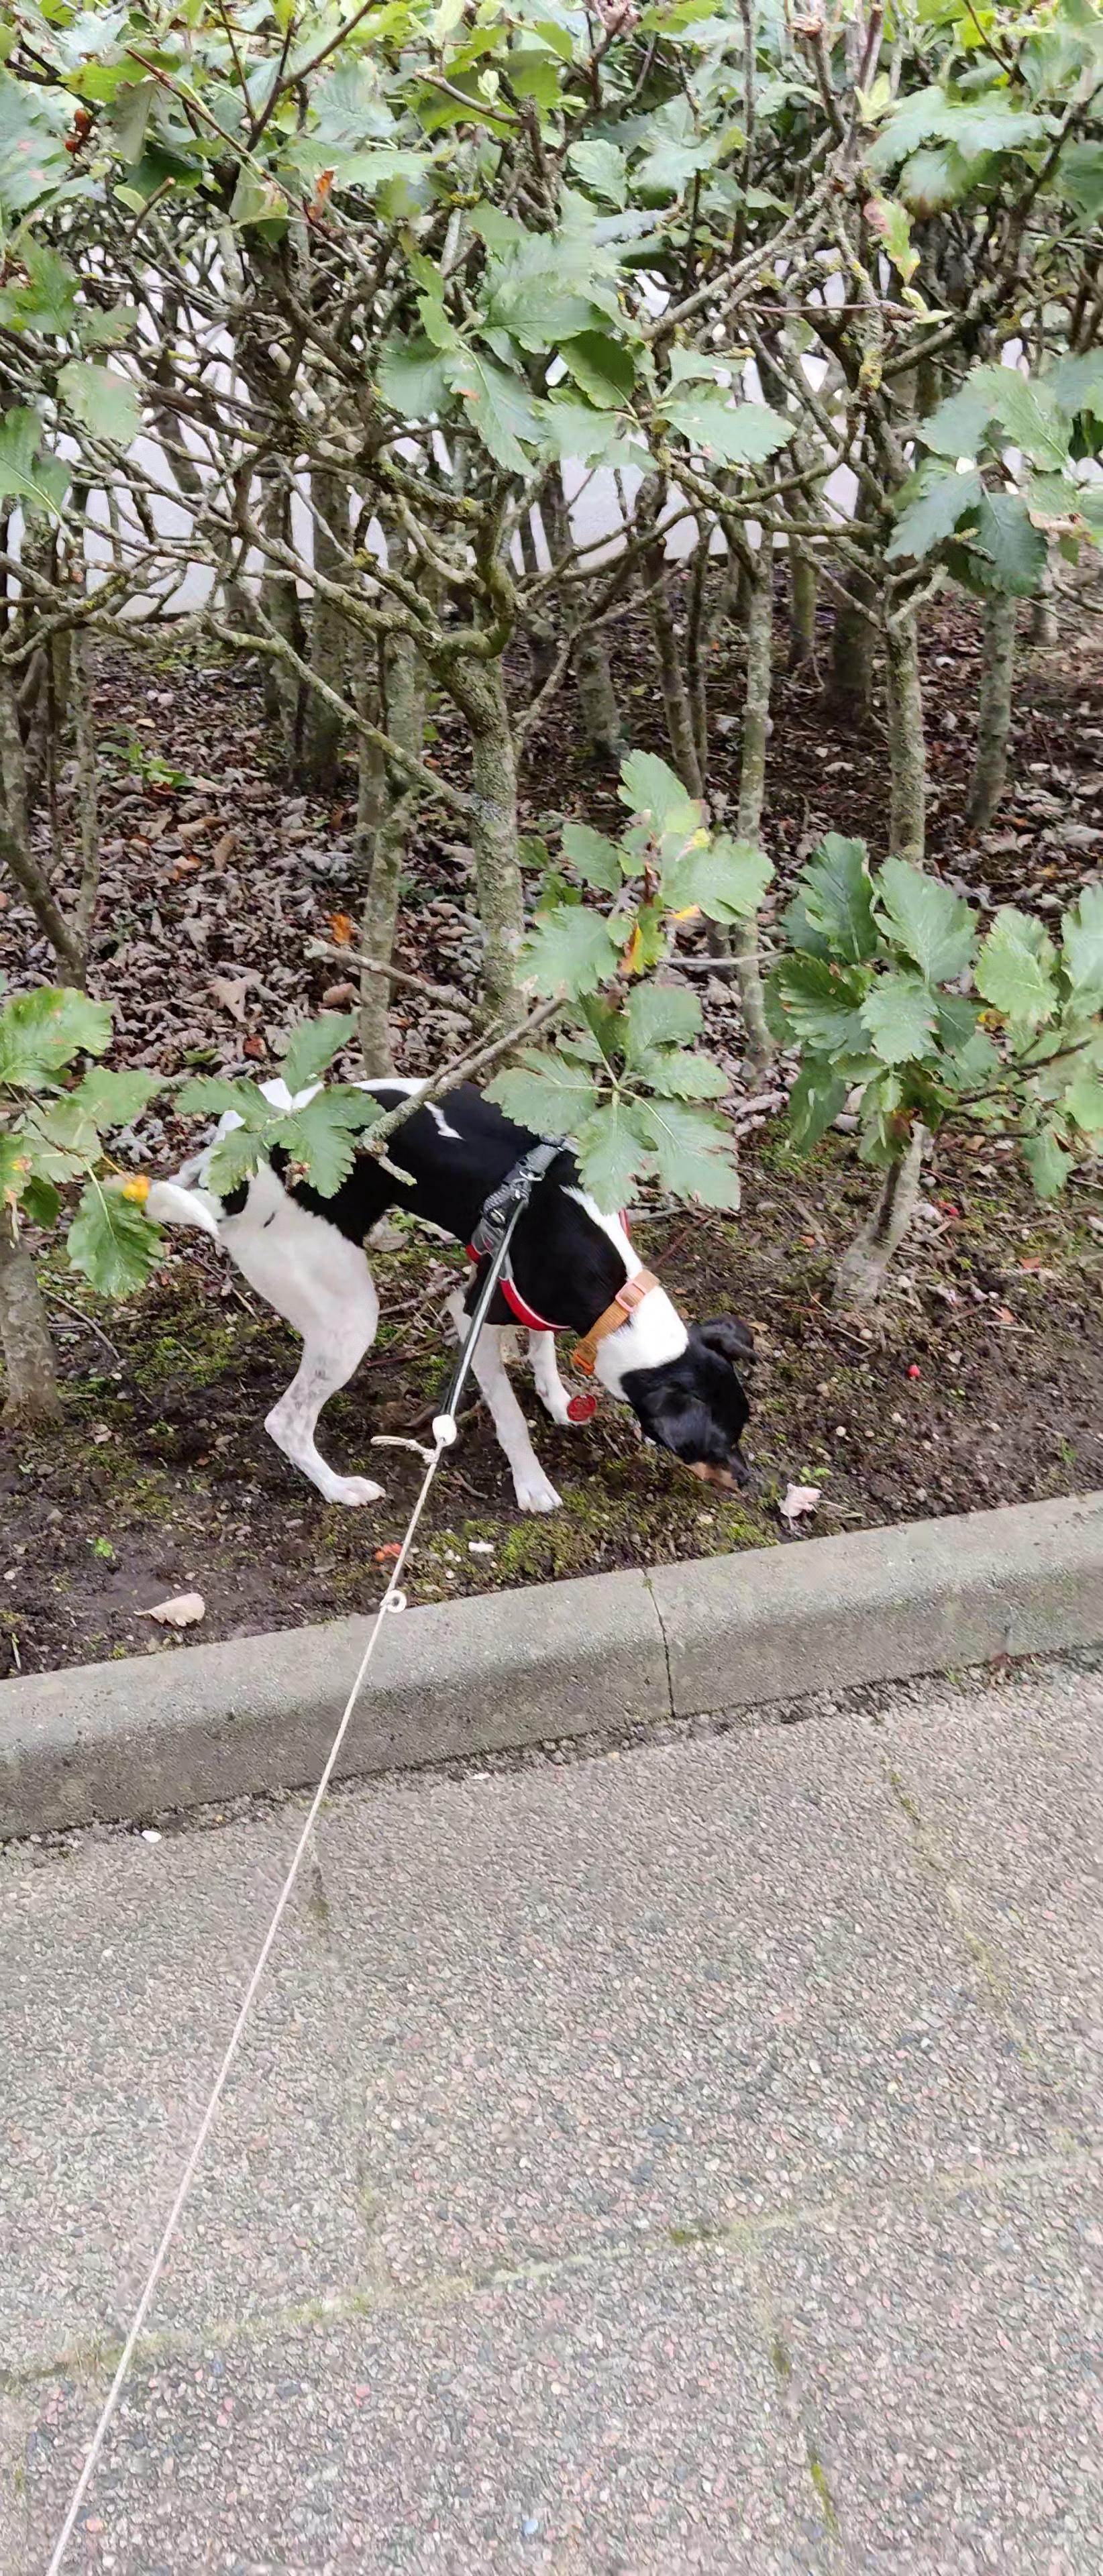Dog: (136, 1058, 774, 1520)
